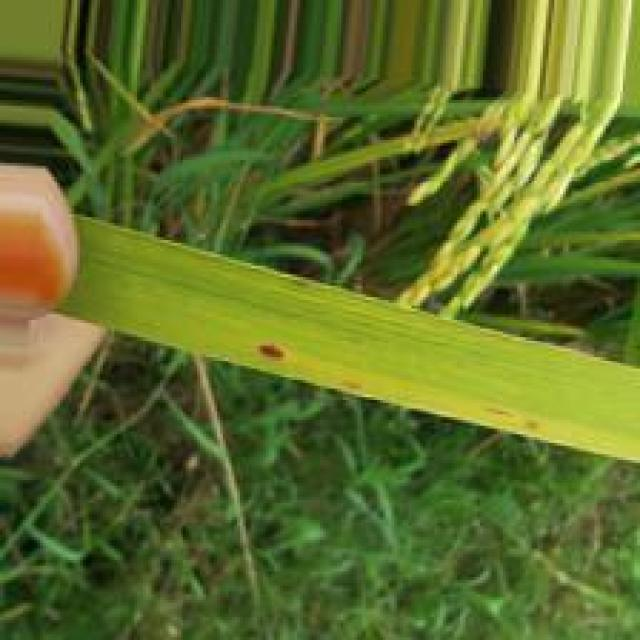Brown_Spot: (260, 348, 284, 358)
